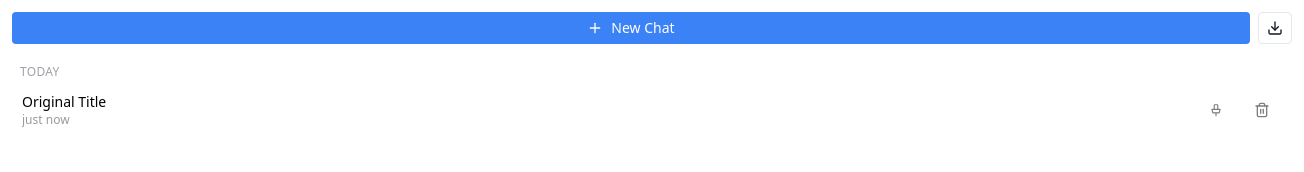
Test: CH-4: Inline rename via double-click › double-clicking title switches to input field
Double-click the text "Original Title": (64, 102) [22,92,106,111]
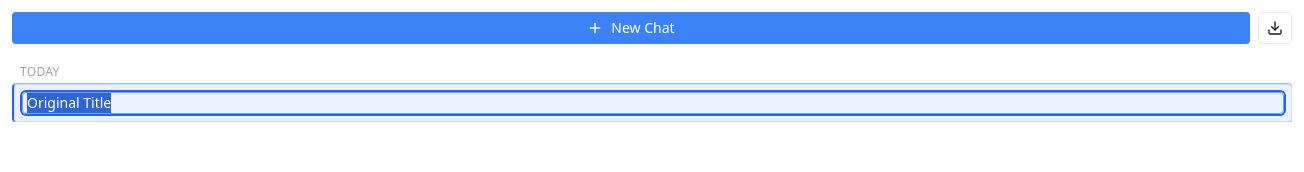
Expected: the field showing "Original Title" is shown, [22,92,1284,114]
